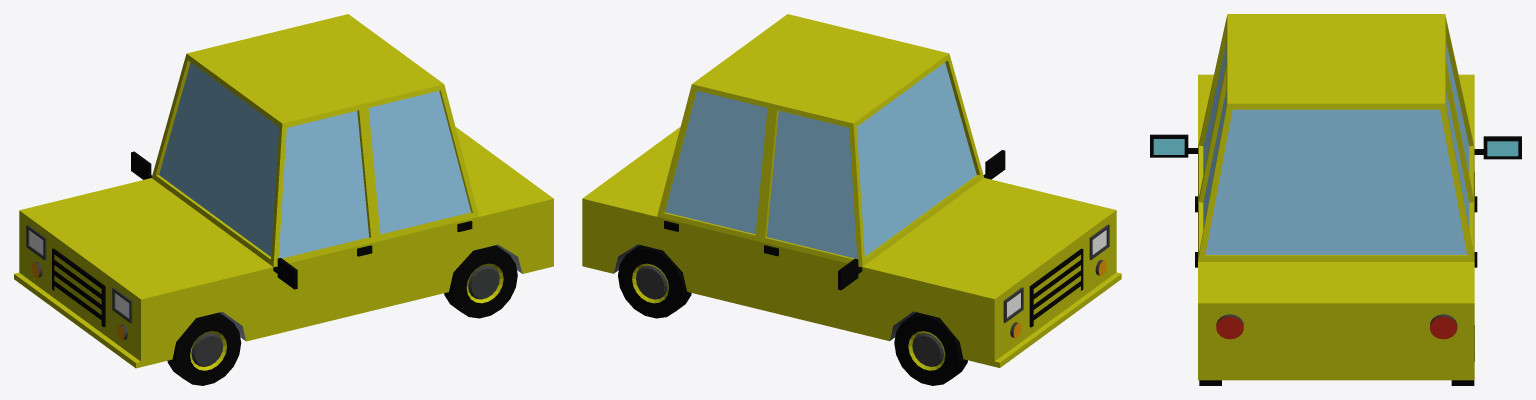
The model's file is car4B.FBX.
3 renders of one model, left to right at view 1: azimuth 30°, elevation 25°; view 2: azimuth 150°, elevation 25°; view 3: azimuth 270°, elevation 25°, orthographic. The views are drawn at different scales.
Visible parts, largest first — view 1: car4B; view 2: car4B; view 3: car4B.
Part boxes in pixels (x1,y1,x2,y2): car4B: [14, 14, 553, 385]; car4B: [582, 14, 1121, 385]; car4B: [1150, 14, 1521, 385].
Bounding box in the file's own units: 9.78 × 5.11 × 6.58.
